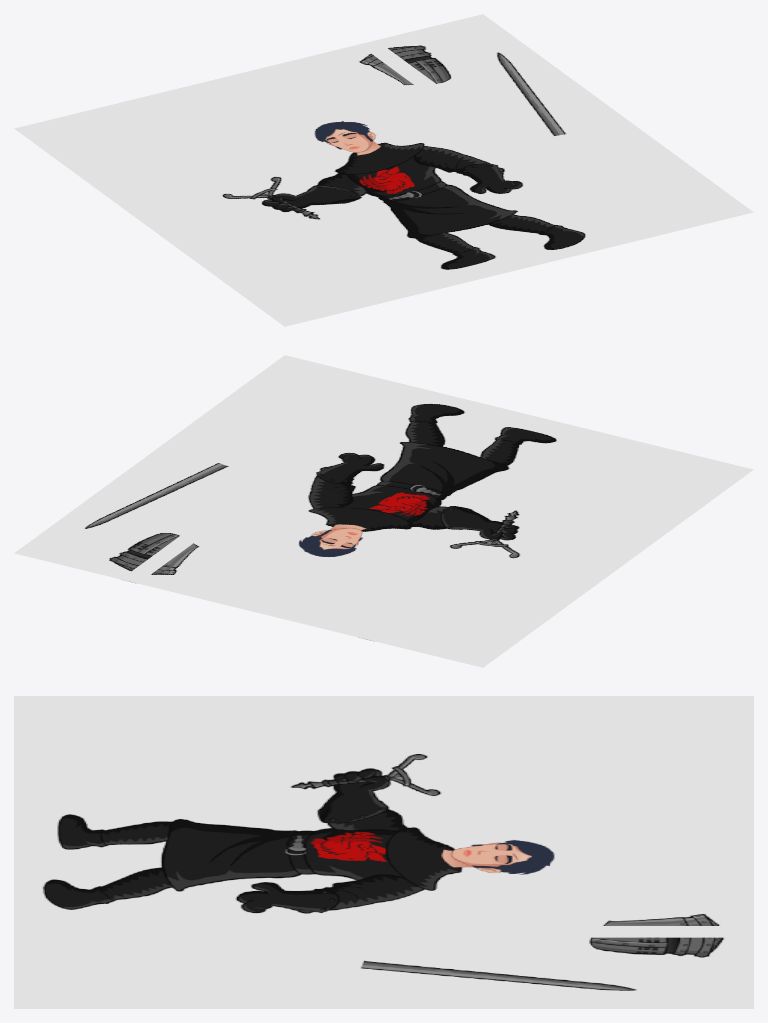
The model's file is Level 103 Roll Powerlift bar.fbx.
The picture shows the model from 3 angles, top to bottom: view 1: azimuth 30°, elevation 25°; view 2: azimuth 150°, elevation 25°; view 3: azimuth 270°, elevation 25°; orthographic projection. The views are drawn at different scales.
Visible parts, largest first — view 1: Mesh, Blend1, Blend; view 2: Mesh, Blend1, Blend; view 3: Mesh, Blend, Blend1.
Part boxes in pixels (x1,y1,x2,y2): Mesh: (14,14,753,326); Blend1: (359,40,441,92); Blend: (122,98,204,150); Mesh: (14,355,753,667); Blend1: (121,531,203,583); Blend: (358,589,440,641); Mesh: (14,696,753,1008); Blend: (574,768,753,779); Blend1: (574,926,753,937).
Size of the model in its own units: 2400 by 1 by 2400.
